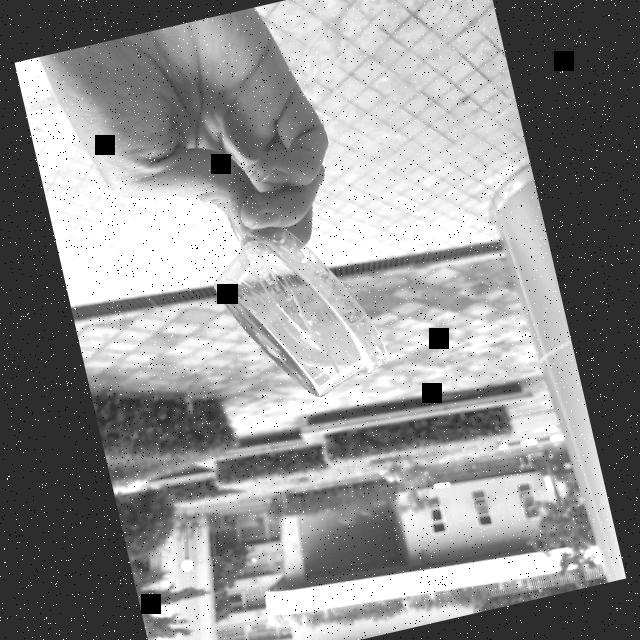plastic_cup_lid: (198, 192, 404, 422)
